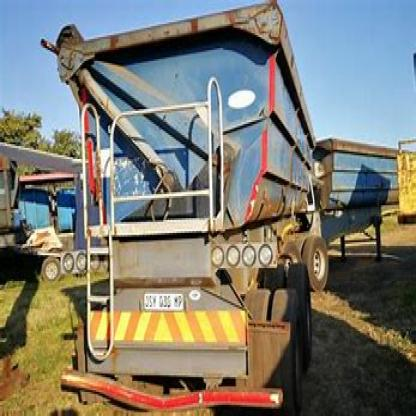dump_truck: (37, 11, 415, 414)
